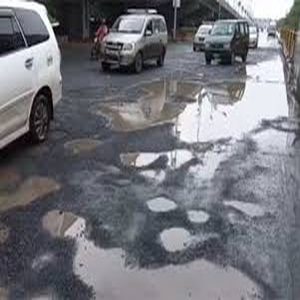pothole: (99, 76, 300, 150), (74, 239, 267, 300), (119, 149, 196, 171), (43, 208, 88, 236), (158, 225, 197, 248)
